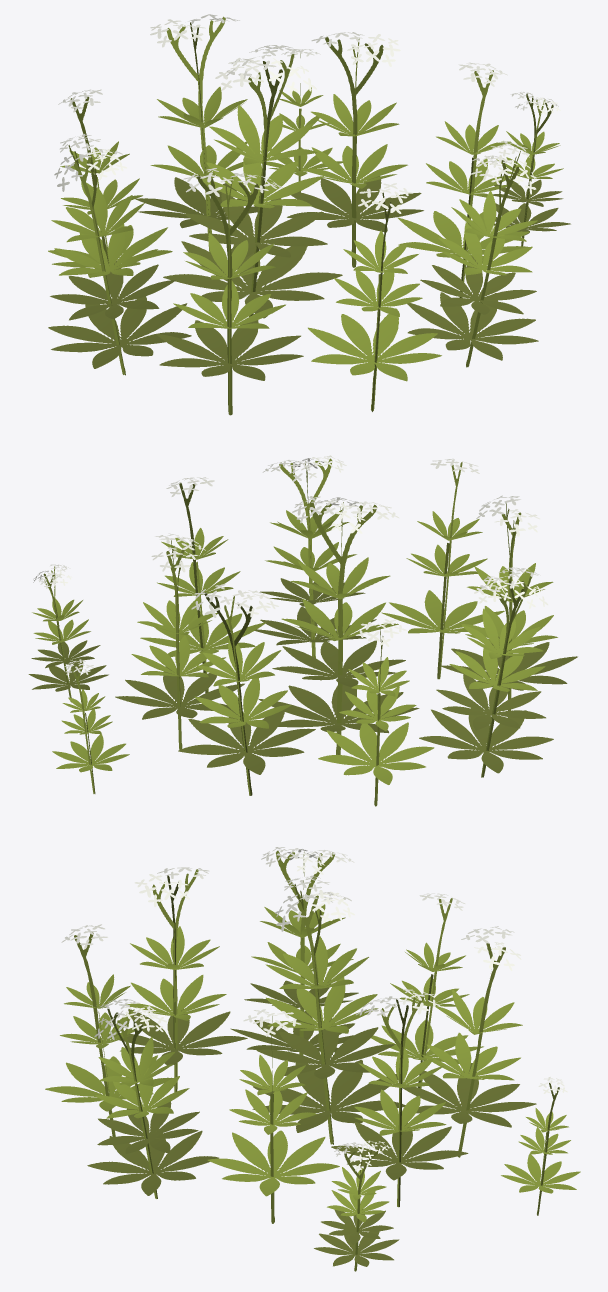
Rendered from Woodruff_Cluster_3.fbx.
3 views of the same model, one above another, from view 1: azimuth 30°, elevation 25°; view 2: azimuth 150°, elevation 25°; view 3: azimuth 270°, elevation 25° (orthographic). The views are drawn at different scales.
Parts seen in each view (by area): view 1: Woodruff_Cluster_3; view 2: Woodruff_Cluster_3; view 3: Woodruff_Cluster_3.
Boxes of the visible parts, left/top/right/bottom form: Woodruff_Cluster_3: left=48, top=14, right=570, bottom=415; Woodruff_Cluster_3: left=28, top=455, right=577, bottom=806; Woodruff_Cluster_3: left=45, top=847, right=580, bottom=1271.
Size of the model in its own units: 113 by 53.67 by 107.
1 material, 1 textured.
